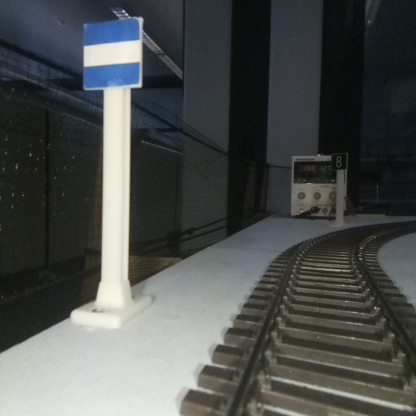black-info-8: (331, 153, 347, 227)
start: (83, 21, 140, 322)
